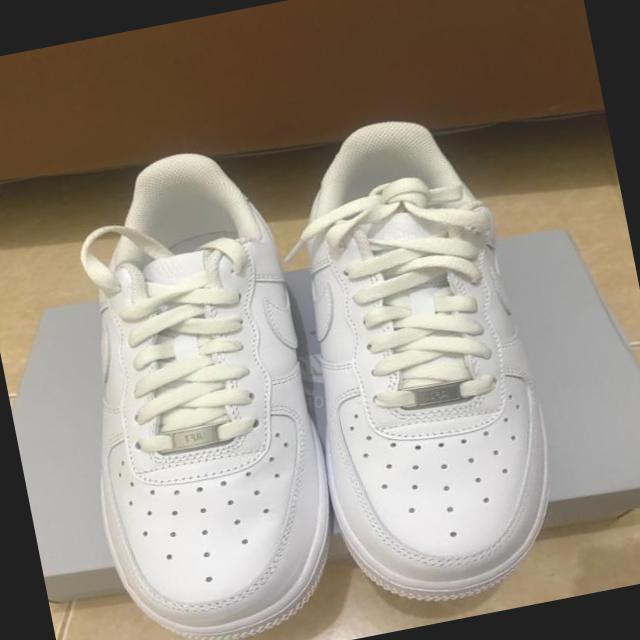nike_original_airforce: (256, 95, 602, 624), (31, 133, 360, 640)
